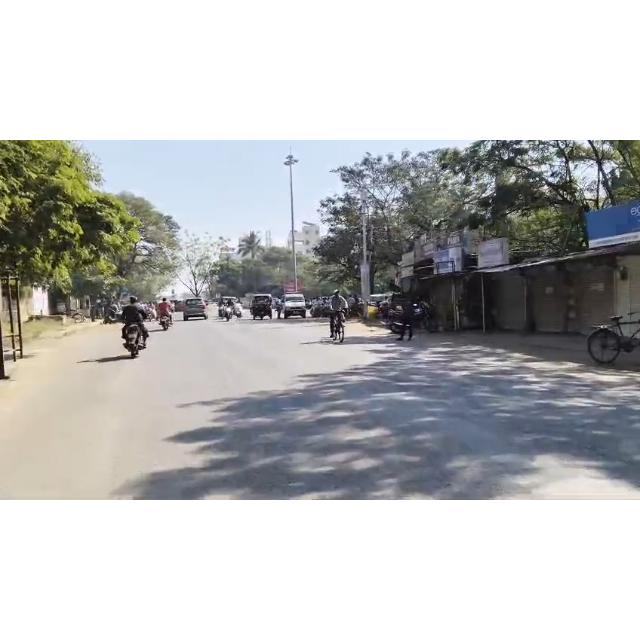auto: (251, 292, 276, 324)
car: (183, 292, 213, 328)
